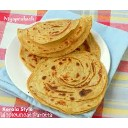parota: (27, 55, 107, 110), (17, 17, 93, 53)
